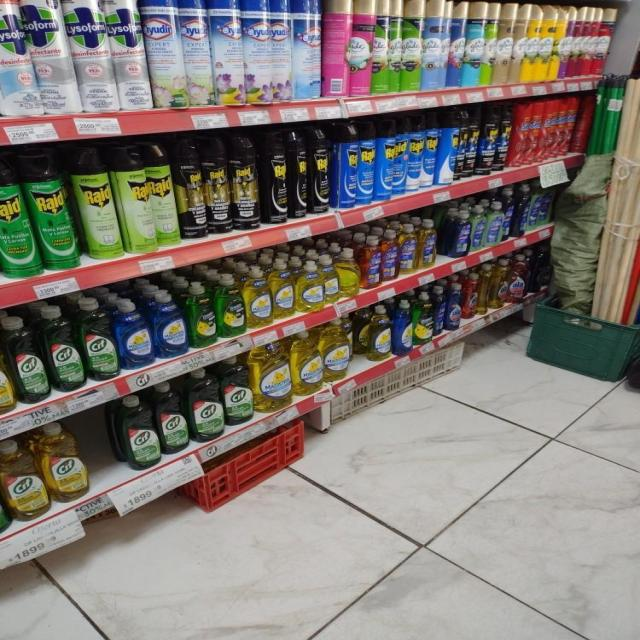cif_conc_bot_amarilla: (0, 438, 45, 523), (44, 422, 90, 503), (0, 322, 10, 418)
cif_conc_botella_verde: (11, 315, 46, 404), (117, 393, 157, 470), (46, 304, 80, 393), (80, 298, 116, 382), (188, 366, 222, 443), (158, 380, 188, 454), (222, 354, 252, 426)
magistral_con_amarillo: (322, 317, 352, 381), (245, 265, 270, 329), (296, 260, 323, 313), (367, 304, 391, 361), (272, 259, 294, 320)
magistral_con_azul: (116, 298, 152, 370), (153, 290, 186, 358)
